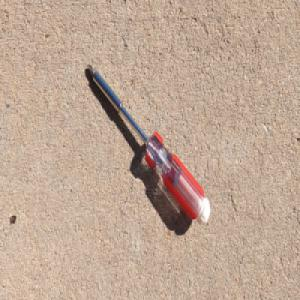Screwdriver: (85, 61, 213, 229)
